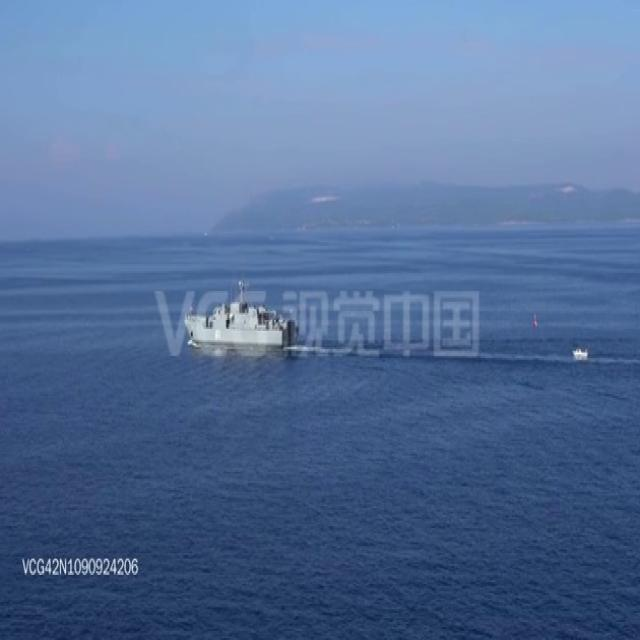houseboat: (572, 342, 589, 359)
navalvessels: (179, 280, 296, 349)
